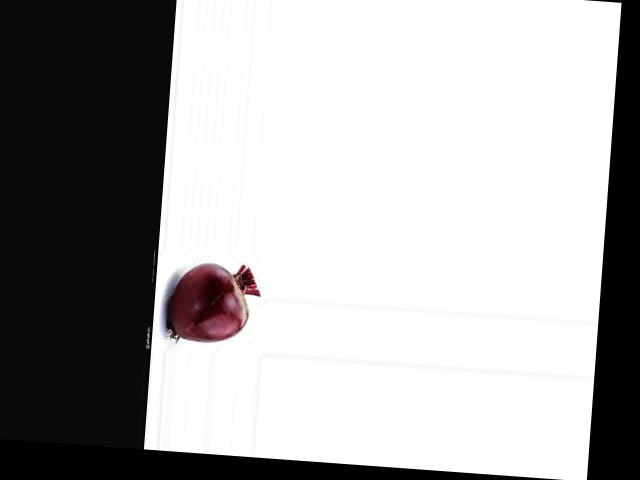beet: (167, 259, 261, 345)
